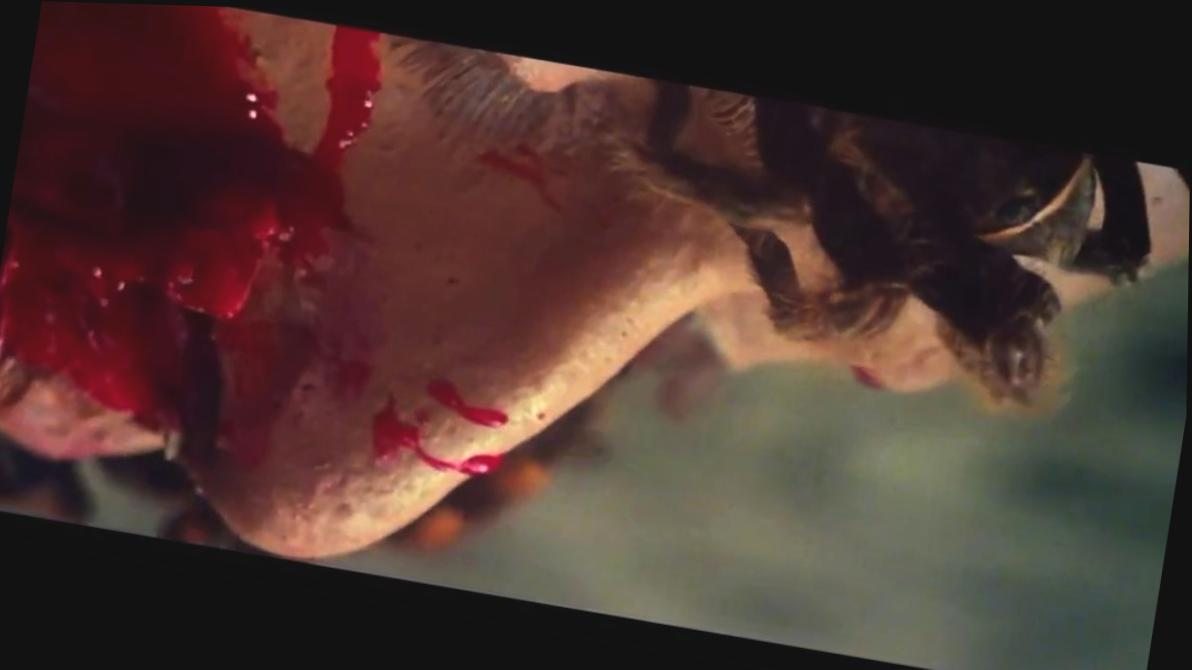Fire: (0, 1, 380, 464), (370, 373, 554, 474)
